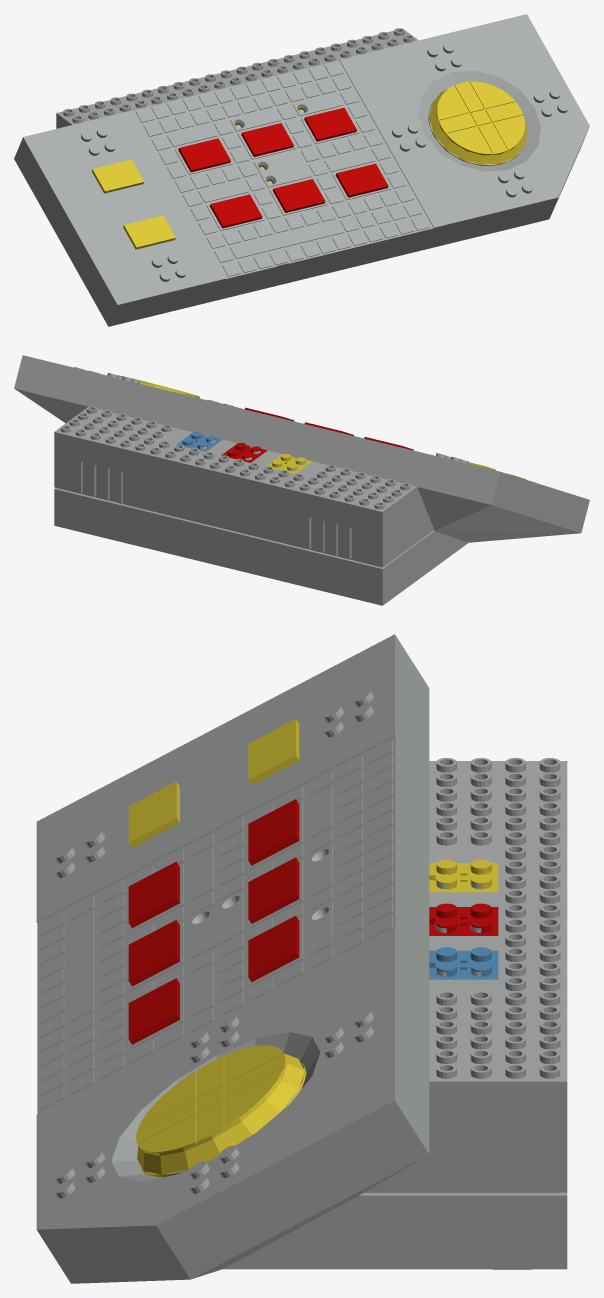
3 views of the same model, one above another, from view 1: azimuth 30°, elevation 25°; view 2: azimuth 150°, elevation 25°; view 3: azimuth 270°, elevation 25° (orthographic). The views are drawn at different scales.
Parts seen in each view (by area): view 1: world; view 2: world; view 3: world.
Boxes of the visible parts, x1,y1,x2,y2 form: world: (14,14,589,326); world: (14,355,589,605); world: (36,634,567,1283).
Size of the model in its own units: 0.256 by 0.0657 by 0.1231.
